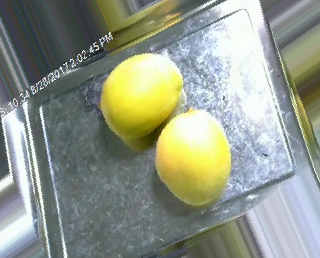Mango: (152, 104, 238, 214), (97, 50, 183, 143)
